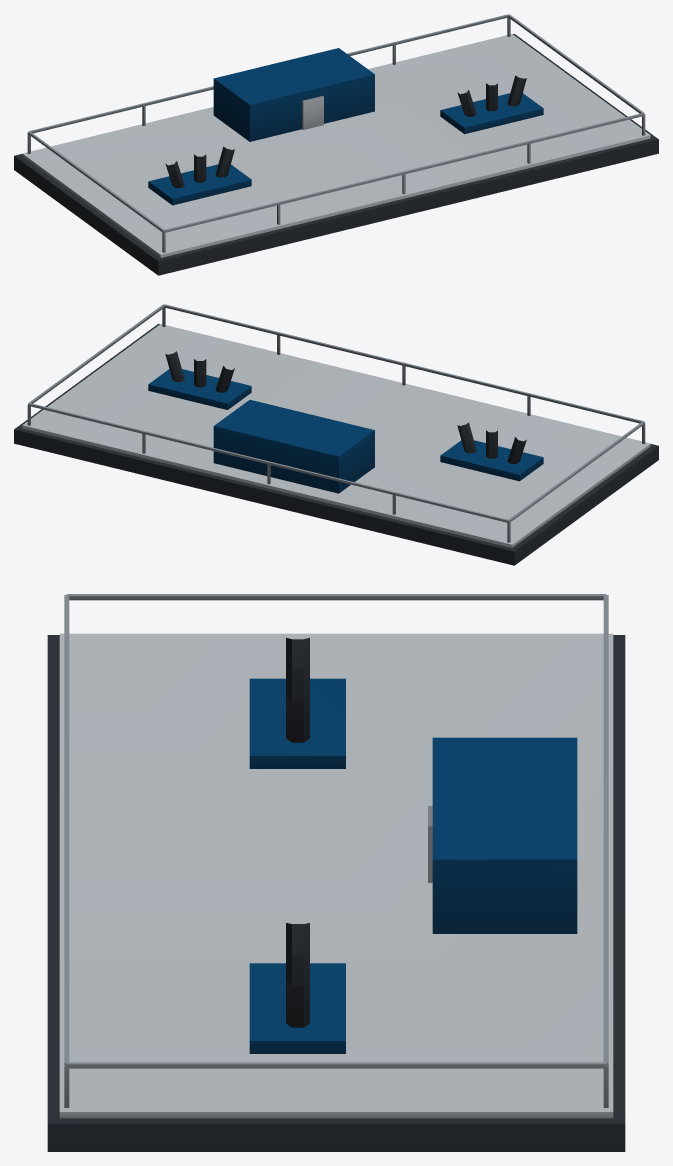
Rendered from fireworks-barge.glb.
The picture shows the model from 3 angles, top to bottom: view 1: azimuth 30°, elevation 25°; view 2: azimuth 150°, elevation 25°; view 3: azimuth 270°, elevation 25°; orthographic projection. The views are drawn at different scales.
Visible parts, largest first — view 1: fireworks-barge; view 2: fireworks-barge; view 3: fireworks-barge.
Part boxes in pixels (x1,y1,x2,y2): fireworks-barge: (14,14,658,275); fireworks-barge: (14,304,658,565); fireworks-barge: (47,594,625,1151).
Bounding box in the file's own units: 24 × 2.5 × 12.
